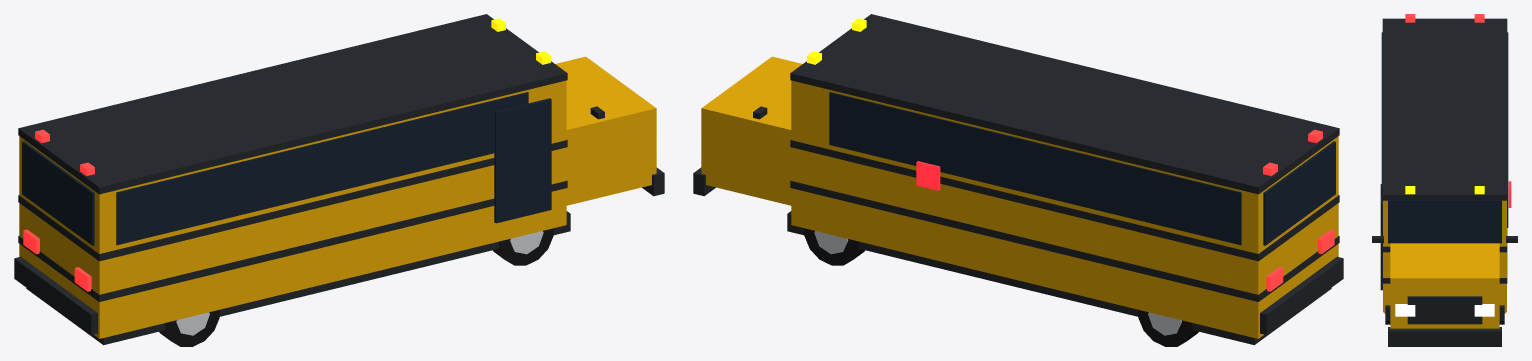
The model's file is schoolbus.glb.
The picture shows the model from 3 angles, left to right: view 1: azimuth 30°, elevation 25°; view 2: azimuth 150°, elevation 25°; view 3: azimuth 270°, elevation 25°; orthographic projection. The views are drawn at different scales.
Visible parts, largest first — view 1: RoofTrim, Body, Windows, Hood, Stripe (×2), Door, RearWindow, Chassis, Wheel (×2), Bumper, School_Bus; view 2: Body, RoofTrim, Windows, Hood, Stripe (×2), RearWindow, Chassis, Wheel (×2), Bumper, School_Bus, StopSign; view 3: RoofTrim, Hood, Windshield, Bumper, Grille, Body, Windows, School_Bus, Headlight (×2), Door, Stripe (×2), Chassis.
Boxes of the visible parts, bbox=[...] form: RoofTrim: bbox=[18, 14, 567, 194]; Body: bbox=[19, 80, 566, 338]; Windows: bbox=[116, 92, 528, 245]; Hood: bbox=[555, 56, 656, 205]; Stripe (×2): bbox=[18, 140, 567, 301]; Door: bbox=[494, 98, 551, 223]; RearWindow: bbox=[22, 141, 94, 245]; Chassis: bbox=[26, 211, 570, 345]; Wheel (×2): bbox=[159, 228, 553, 346]; Bumper: bbox=[14, 256, 97, 334]; School_Bus: bbox=[35, 18, 604, 175]; Body: bbox=[791, 80, 1338, 338]; RoofTrim: bbox=[790, 14, 1339, 194]; Windows: bbox=[829, 92, 1241, 245]; Hood: bbox=[701, 56, 802, 205]; Stripe (×2): bbox=[790, 140, 1339, 301]; RearWindow: bbox=[1263, 141, 1335, 245]; Chassis: bbox=[787, 211, 1331, 345]; Wheel (×2): bbox=[804, 228, 1198, 346]; Bumper: bbox=[1260, 256, 1343, 334]; School_Bus: bbox=[753, 18, 1322, 175]; StopSign: bbox=[916, 161, 940, 190]; RoofTrim: bbox=[1382, 18, 1507, 200]; Hood: bbox=[1390, 243, 1499, 328]; Windshield: bbox=[1388, 200, 1501, 243]; Bumper: bbox=[1388, 327, 1501, 346]; Grille: bbox=[1407, 296, 1482, 324]; Body: bbox=[1383, 200, 1506, 312]; Windows: bbox=[1381, 32, 1508, 227]; School_Bus: bbox=[1372, 14, 1517, 242]; Headlight (×2): bbox=[1395, 304, 1494, 316]; Door: bbox=[1380, 184, 1382, 290]; Stripe (×2): bbox=[1382, 228, 1507, 283]; Chassis: bbox=[1385, 305, 1504, 320].
Bounding box in the file's own units: 10.34 × 3.28 × 2.94.
